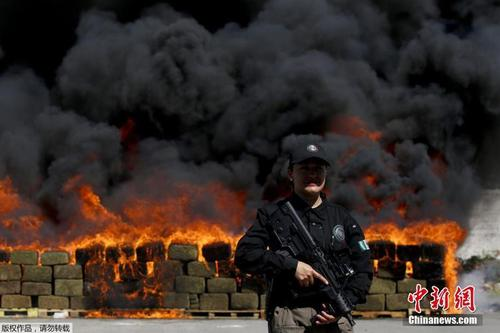fire: (14, 210, 467, 333)
smoke: (4, 3, 495, 205)
